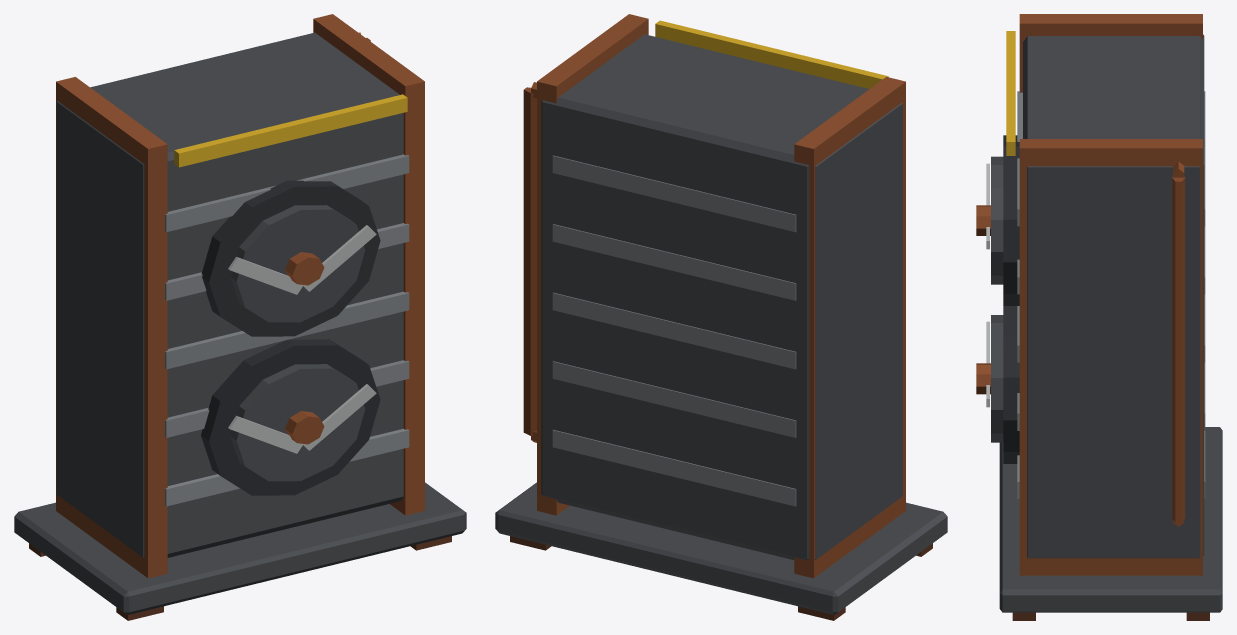
The model's file is piece_cooler.fbx.
3 renders of one model, left to right at view 1: azimuth 30°, elevation 25°; view 2: azimuth 150°, elevation 25°; view 3: azimuth 270°, elevation 25°, orthographic.
Visible parts, largest first — view 1: piece_cooler; view 2: piece_cooler; view 3: piece_cooler.
Boxes of the visible parts, x1,y1,x2,y2 form: piece_cooler: [14, 14, 466, 620]; piece_cooler: [495, 14, 947, 620]; piece_cooler: [976, 14, 1222, 620].
Bounding box in the file's own units: 1.15 × 1.49 × 0.7211.
